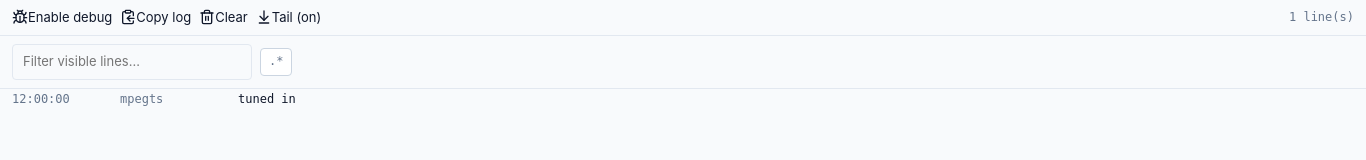
LogView — text filter › clears the rendered list when the filter excludes every line
Type "nothing matches this" into the search field with placeholder "Filter visible lines…" at (132, 62), box top-left (12, 44), bottom-right (252, 80)
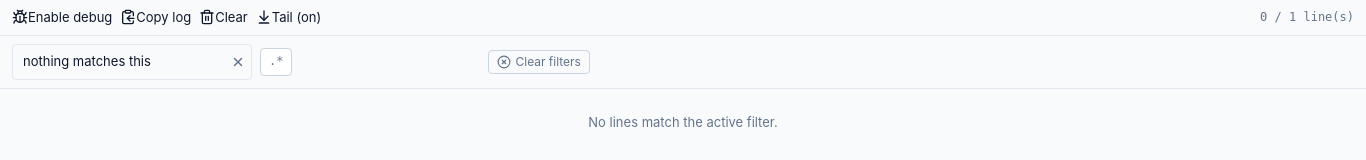
Result: no elements with class "log-view__line" are shown
Result: the text "No lines match the active filter" is shown at top-left (588, 114), bottom-right (778, 130)
